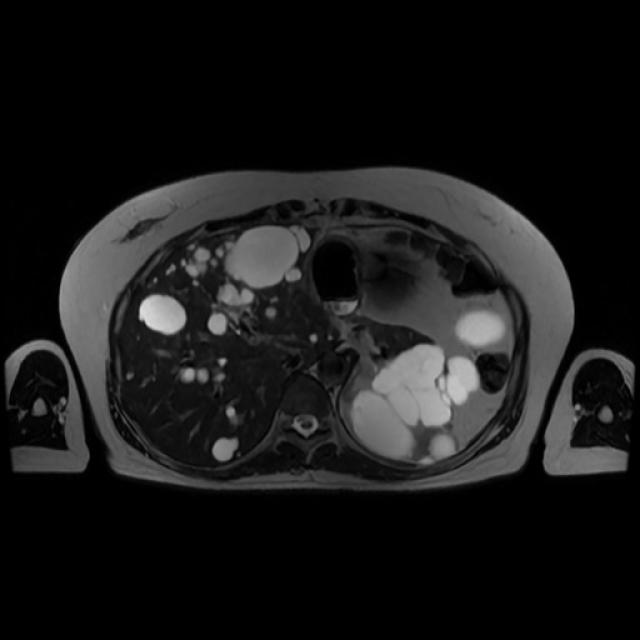sol: (349, 309, 504, 464)
